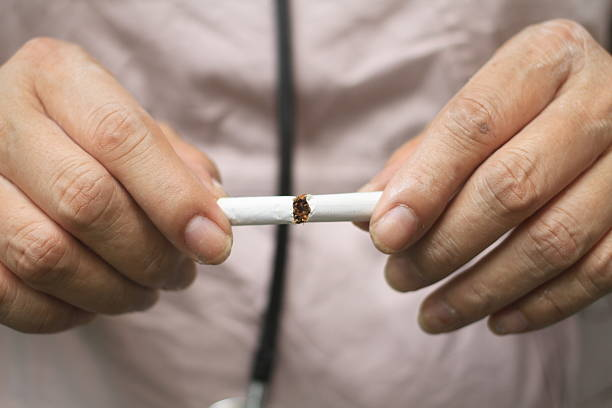cigarette: (296, 190, 384, 223), (218, 192, 302, 225)
